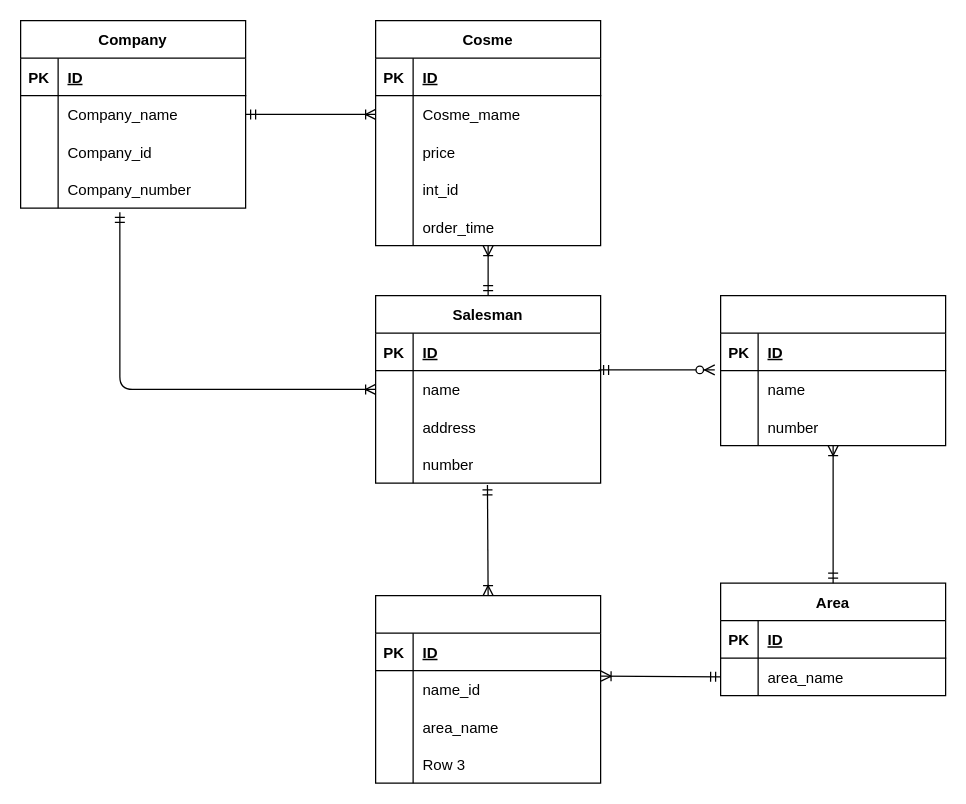
Some shapes in this 966 by 804 pixel diagram are drawn without their labels. The box of each missing label's shape, as (x1, y1, x2, y2) in pixels:
Guest: (719, 294, 946, 446)
Responsible_area: (374, 594, 601, 783)
